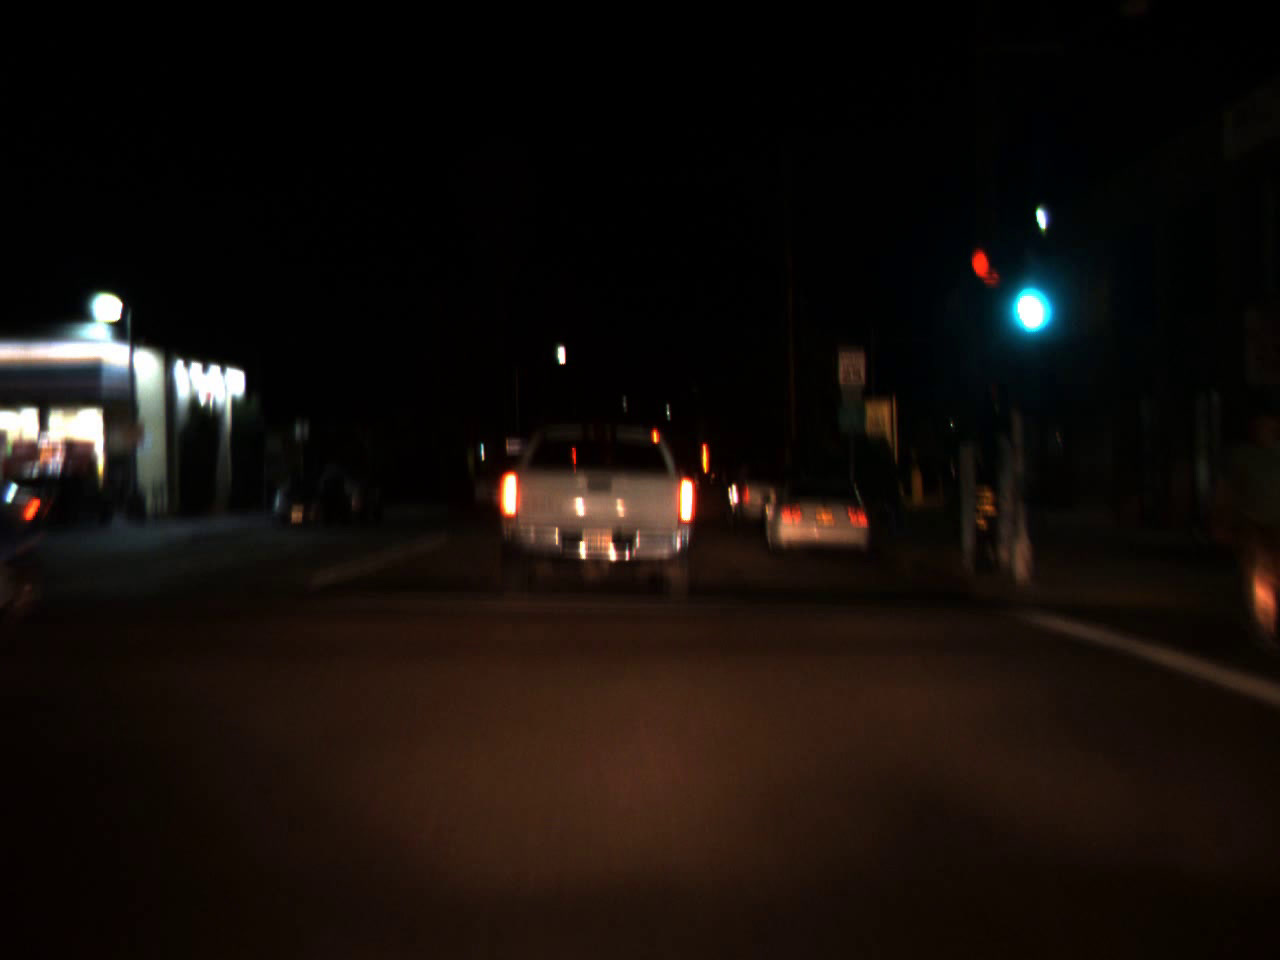go: (1006, 254, 1049, 338)
stop: (697, 439, 710, 463)
